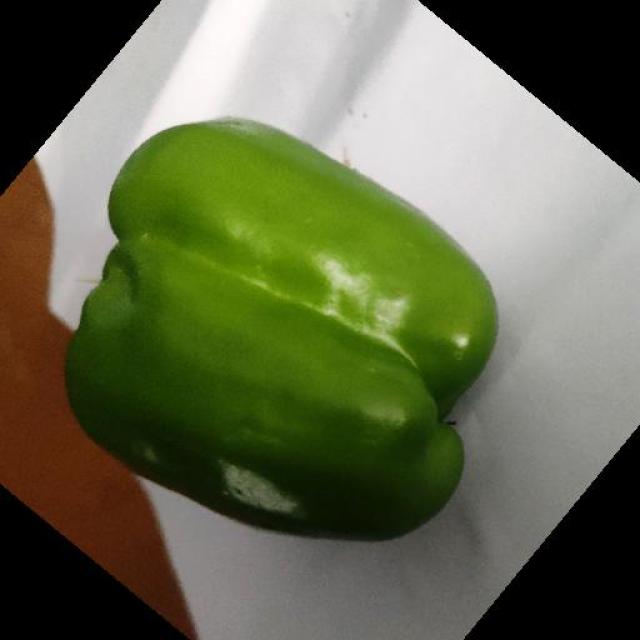Stale_Capsicum: (46, 234, 465, 542)
